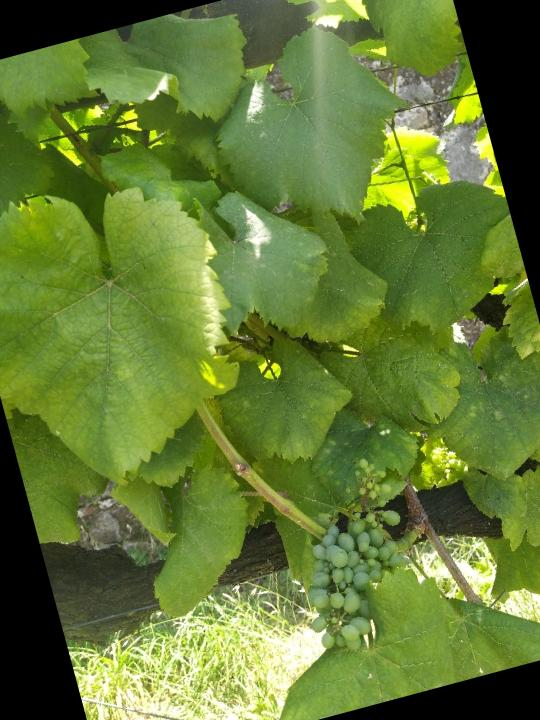grape: (284, 501, 428, 664)
